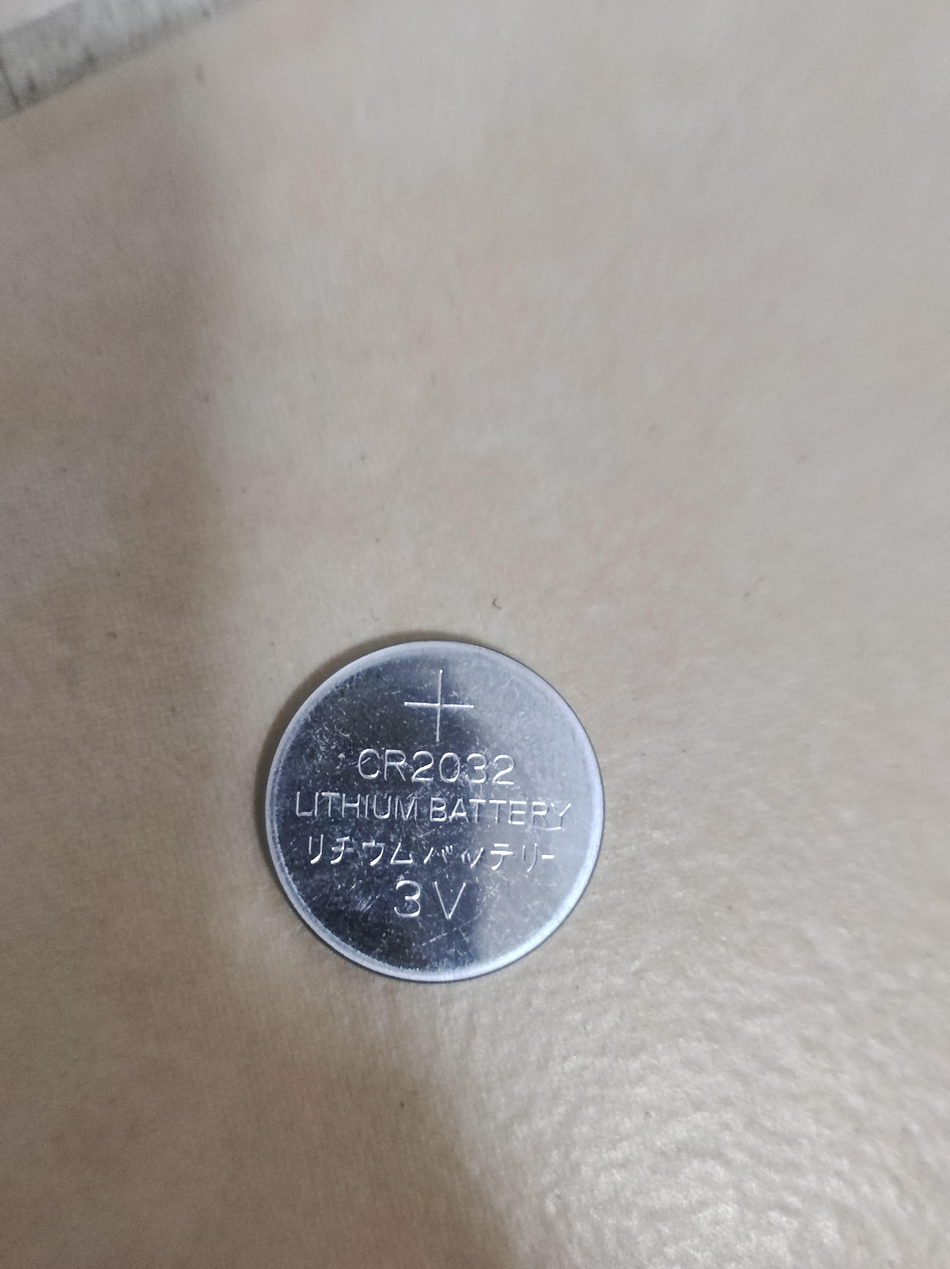COIN: (262, 637, 606, 983)
